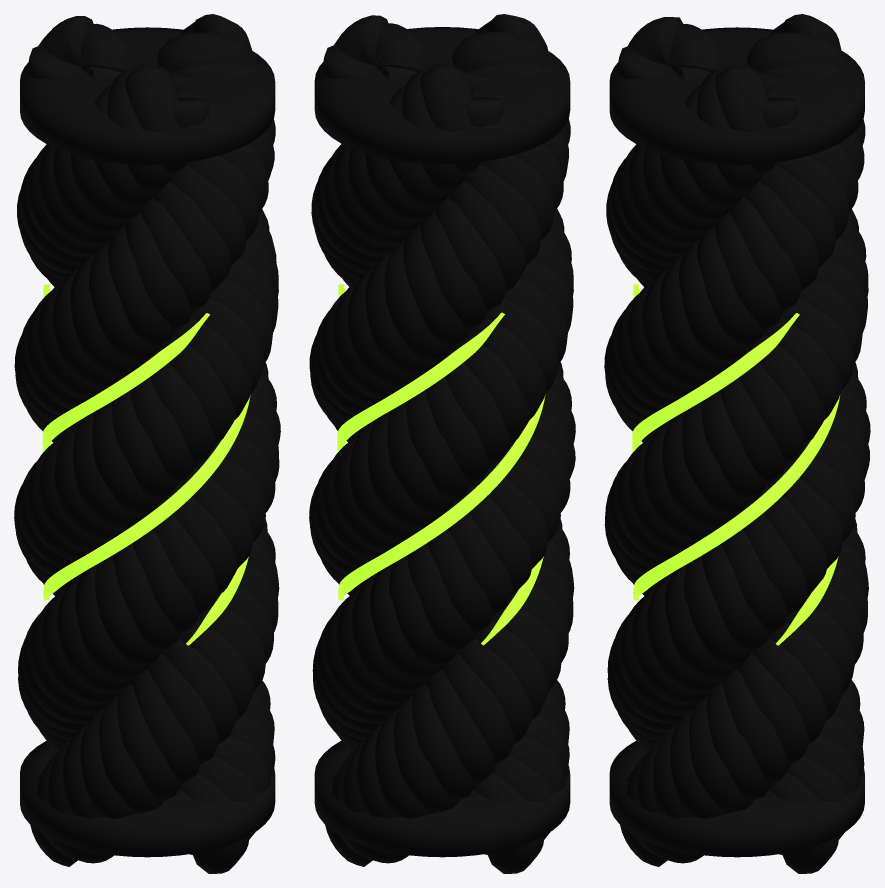
3 views of the same model, side by side, from view 1: azimuth 30°, elevation 25°; view 2: azimuth 150°, elevation 25°; view 3: azimuth 270°, elevation 25° (orthographic).
Visible parts, largest first — view 1: nawa_rope, nawa_light; view 2: nawa_rope, nawa_light; view 3: nawa_rope, nawa_light.
Part boxes in pixels (x1,y1,x2,y2): nawa_rope: [14, 14, 280, 873]; nawa_light: [42, 284, 250, 645]; nawa_rope: [309, 14, 575, 873]; nawa_light: [337, 284, 545, 645]; nawa_rope: [604, 14, 870, 873]; nawa_light: [632, 284, 840, 645].
Bounding box in the file's own units: 0.7308 × 2.47 × 0.7305.
